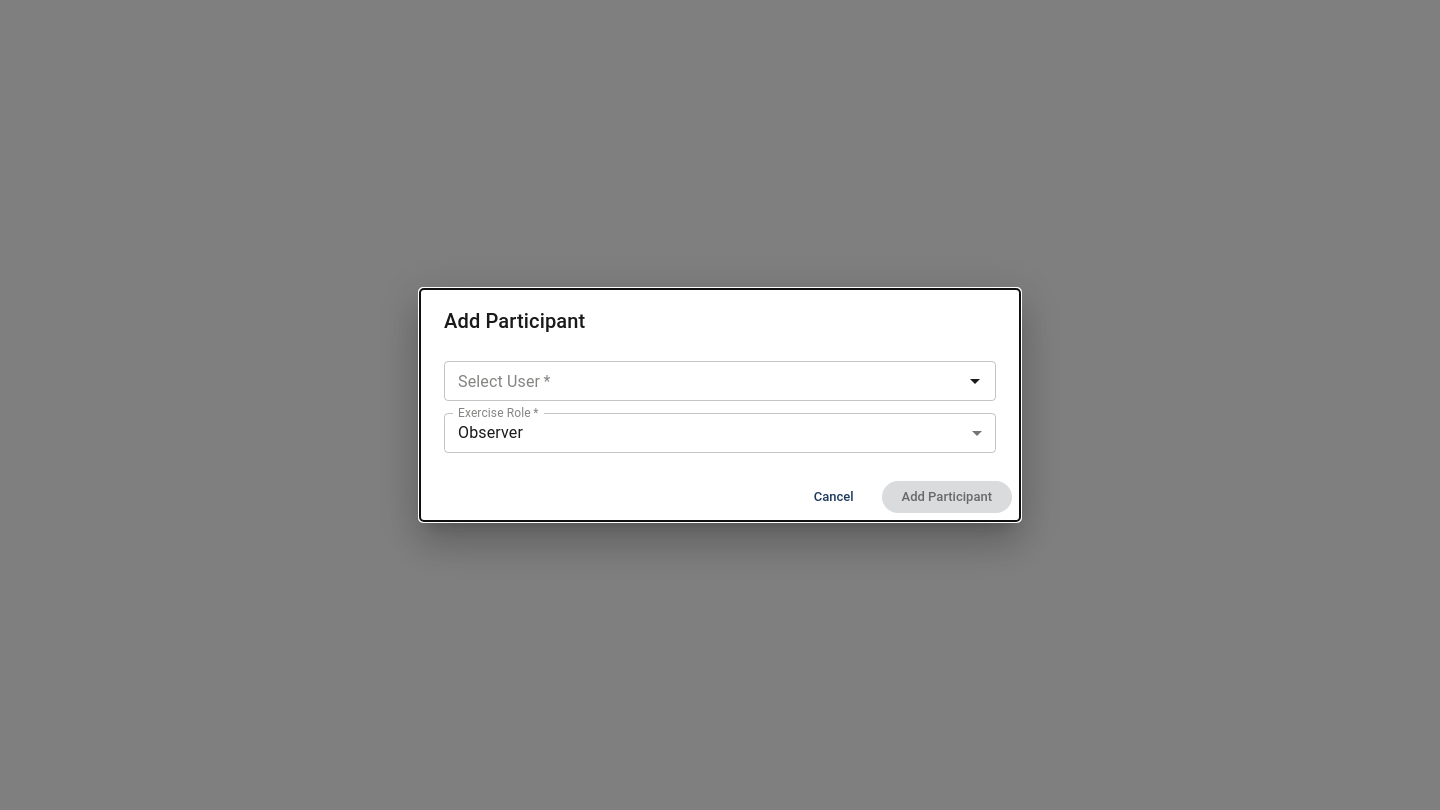
Test: AddParticipantDialog › enables add button when user is selected
Click the dropdown labelled "Select User *": (704, 381) [450,367,957,395]
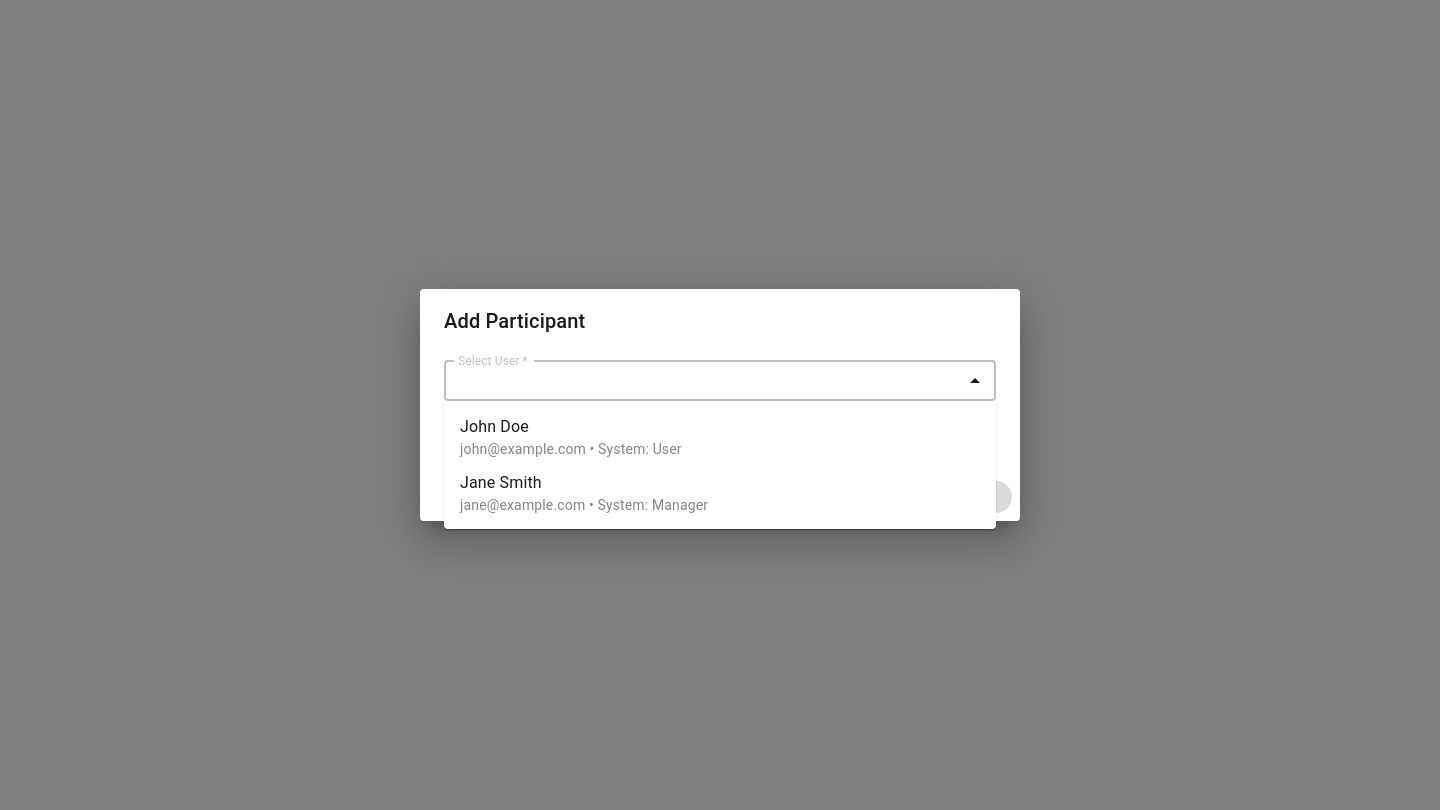
Expected: the text "John Doe" is shown
Click the text "John Doe": (494, 426) [460,417,529,436]
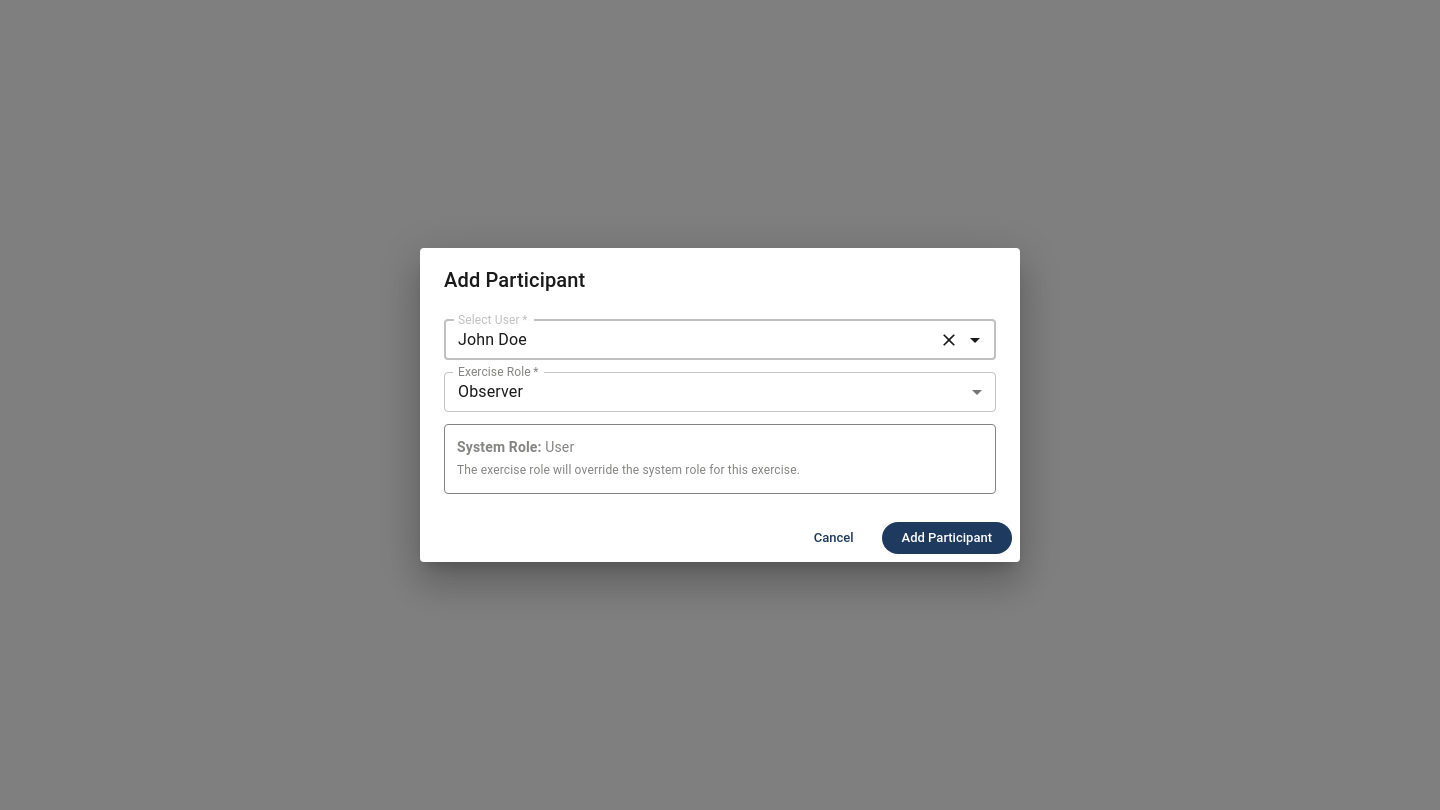
Expected: the button "Add Participant" is enabled, [882,522,1012,554]
